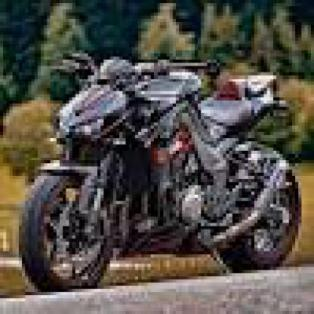Motocicleta: (13, 40, 307, 293)
